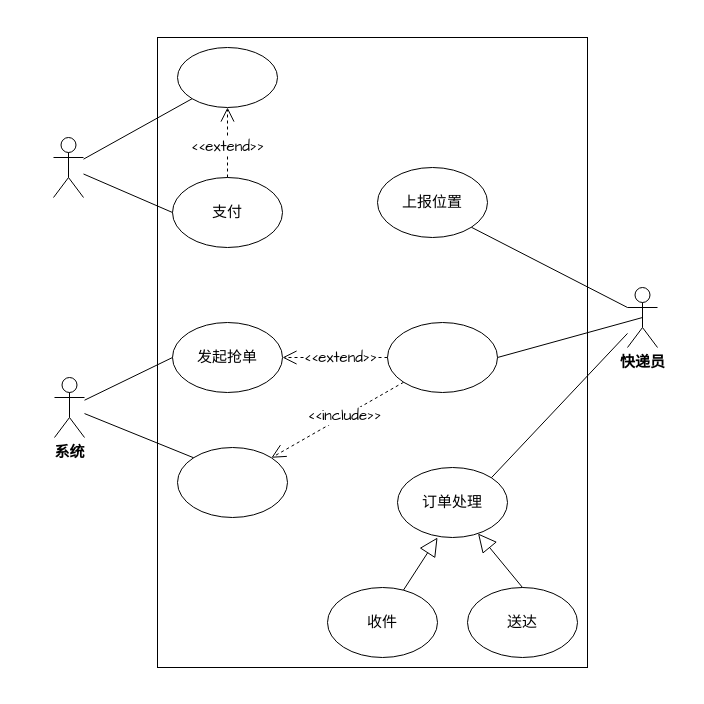
This 704x704 diagram has some shape labels left out. Here are the shapes that lost their labels. From the top down, the box of each, then its label:
(176, 46, 278, 108): 下单
(52, 136, 84, 198): 用户
(386, 322, 498, 392): 抢单
(176, 446, 288, 518): 派单
